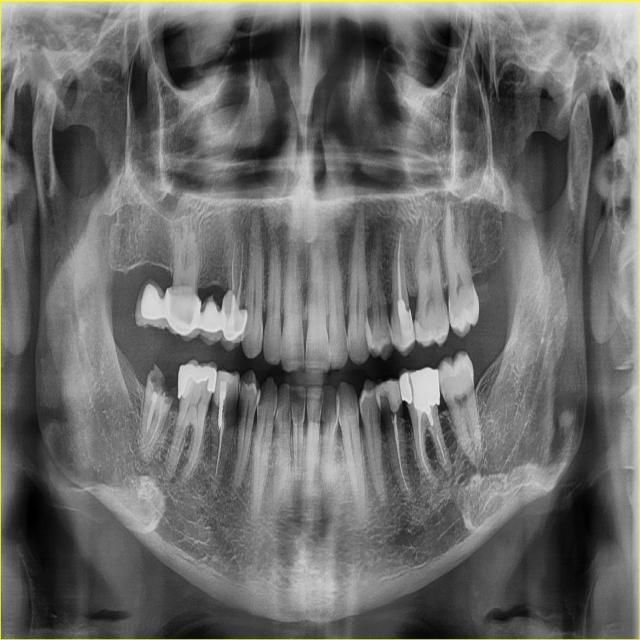71: (216, 379, 228, 430), (228, 295, 236, 332), (425, 404, 435, 427)
74: (390, 412, 411, 496), (147, 395, 168, 447), (415, 408, 431, 474), (235, 241, 246, 306), (145, 390, 159, 436), (215, 416, 224, 477), (434, 432, 448, 464), (398, 231, 402, 299), (231, 243, 235, 292)
NucleOSS Implant: (410, 366, 442, 415), (178, 363, 216, 402), (397, 372, 414, 405)
Sterngold Implant: (223, 387, 239, 431), (238, 394, 246, 427), (258, 383, 268, 407), (444, 304, 450, 327), (449, 305, 452, 320)
Straumann Implant: (207, 367, 238, 405), (397, 298, 415, 354), (376, 378, 404, 414), (407, 317, 435, 346)
Zimmer Implant: (215, 290, 251, 352), (165, 285, 202, 338), (132, 279, 168, 329), (199, 298, 222, 343)
